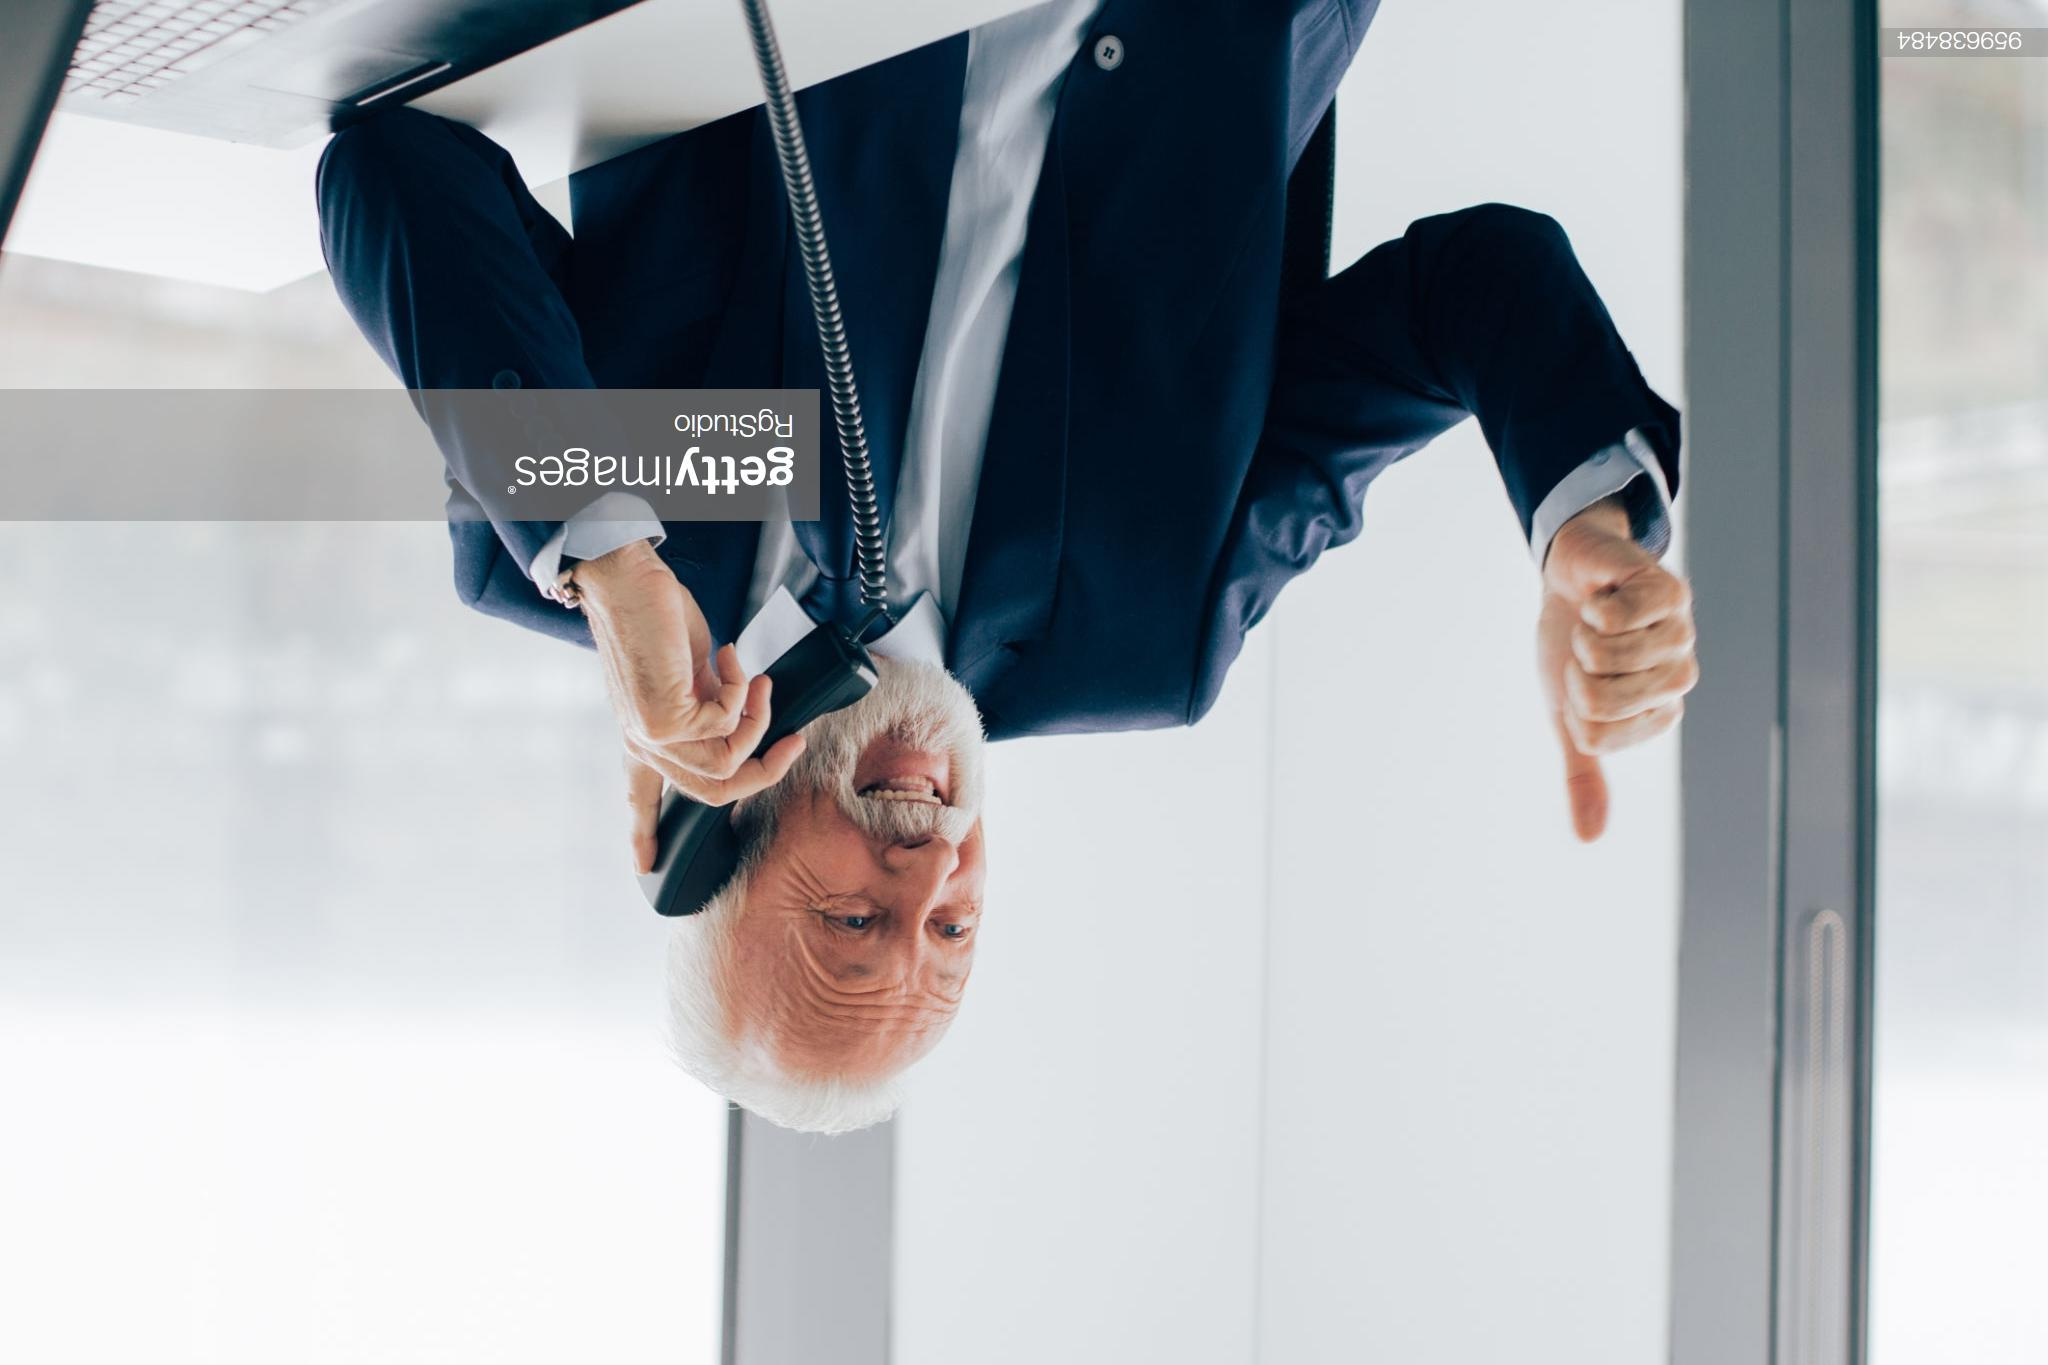thumbsdown: (1562, 587, 1701, 842)
